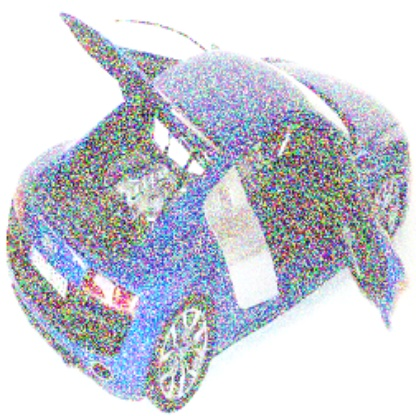Vehicle: (6, 10, 411, 415)
